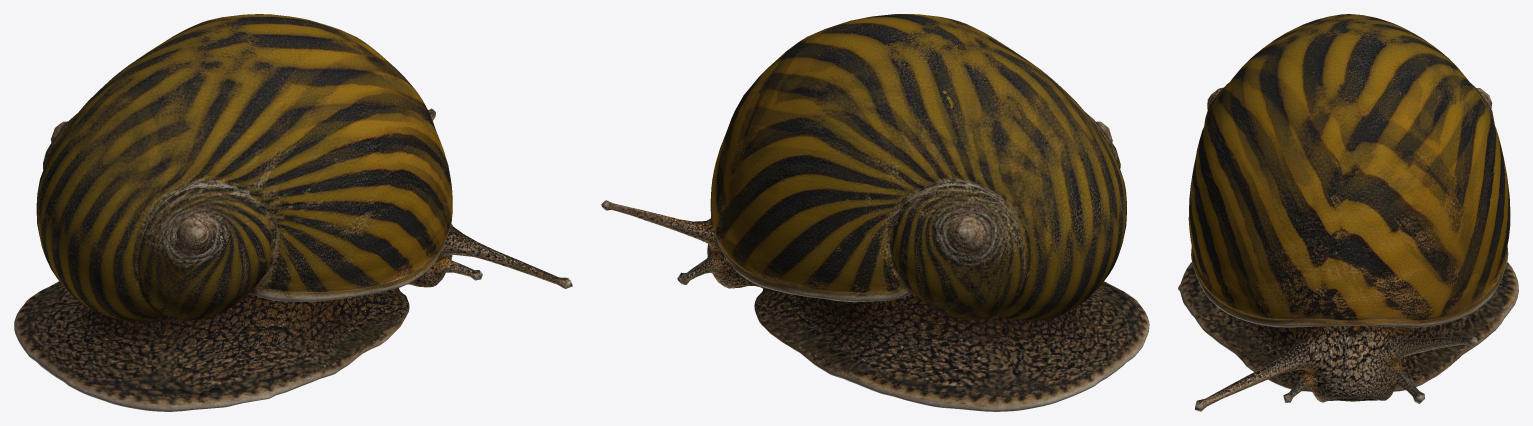
Rendered from nerite_snail.glb.
3 renders of one model, left to right at view 1: azimuth 30°, elevation 25°; view 2: azimuth 150°, elevation 25°; view 3: azimuth 270°, elevation 25°, orthographic.
Visible parts, largest first — view 1: tripo_part_0, tripo_part_1, tripo_part_2, tripo_part_3; view 2: tripo_part_0, tripo_part_1, tripo_part_2, tripo_part_4; view 3: tripo_part_0, tripo_part_2, tripo_part_1, tripo_part_3.
Boxes of the visible parts, x1,y1,x2,y2 form: tripo_part_0: (36,14,452,320); tripo_part_1: (14,281,409,411); tripo_part_2: (407,108,572,288); tripo_part_3: (268,65,338,111); tripo_part_0: (710,14,1126,320); tripo_part_1: (754,281,1149,411); tripo_part_2: (601,200,766,289); tripo_part_4: (898,69,954,107); tripo_part_0: (1188,14,1510,327); tripo_part_2: (1195,325,1478,411); tripo_part_1: (1178,262,1518,391); tripo_part_3: (1240,52,1281,91).
Bounding box in the file's own units: 0.98 × 0.6217 × 0.6509.
5 materials, 5 textured.
